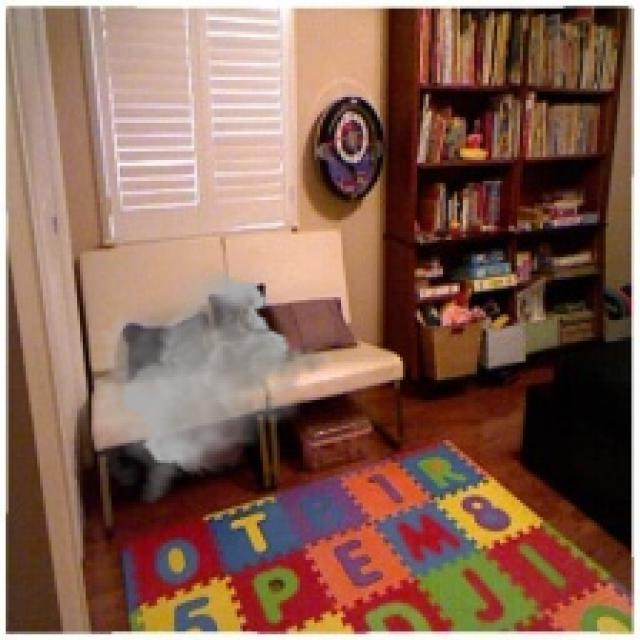smoke: (89, 268, 337, 506)
